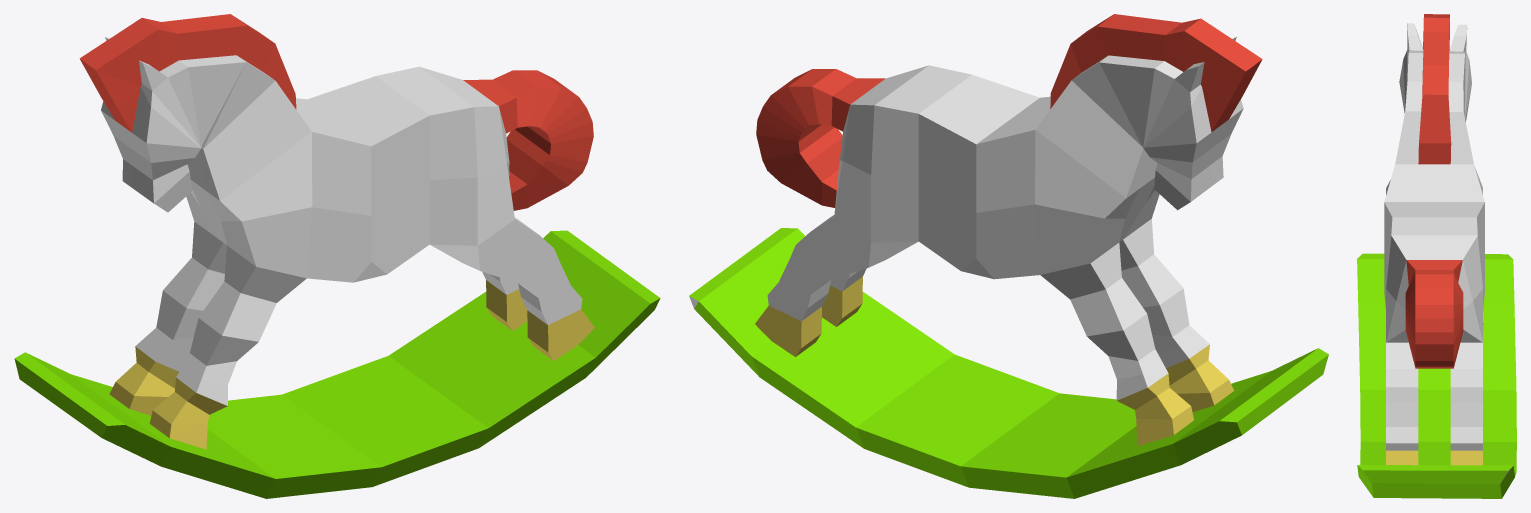
File: Expensive Brown Toy.fbx
3 renders of one model, left to right at view 1: azimuth 30°, elevation 25°; view 2: azimuth 150°, elevation 25°; view 3: azimuth 270°, elevation 25°, orthographic. The views are drawn at different scales.
Visible parts, largest first — view 1: horse; view 2: horse; view 3: horse.
Boxes of the visible parts, box(x1,y1,x2,y2) form: horse: box(14, 14, 660, 498); horse: box(689, 14, 1328, 498); horse: box(1357, 14, 1516, 498).
Size of the model in its own units: 452 by 376 by 145.
